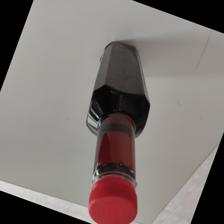Namngu: (85, 43, 151, 224)
